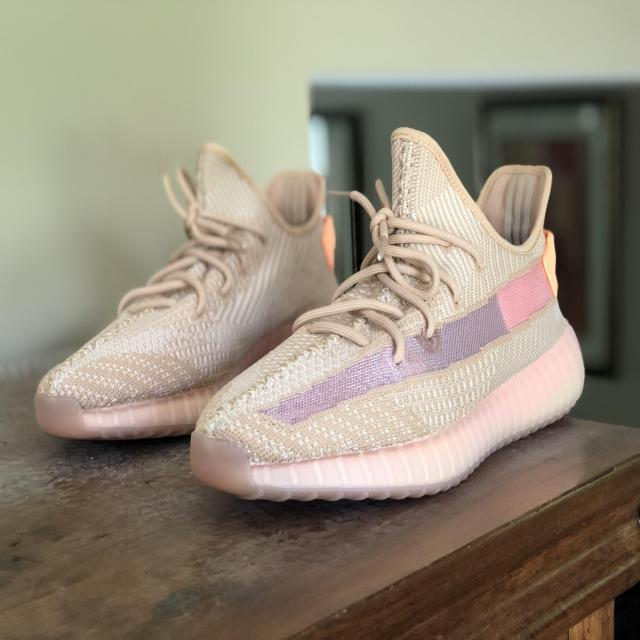shoe: (179, 124, 589, 522), (20, 137, 345, 446)
